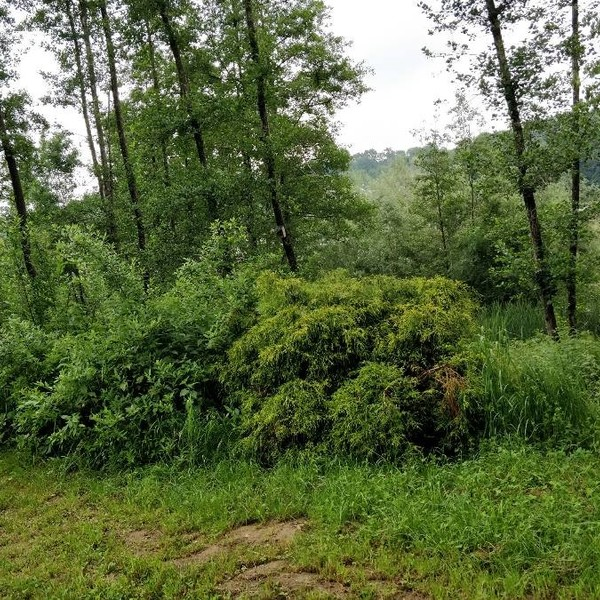obstacle: (23, 230, 577, 455), (31, 457, 561, 582)
